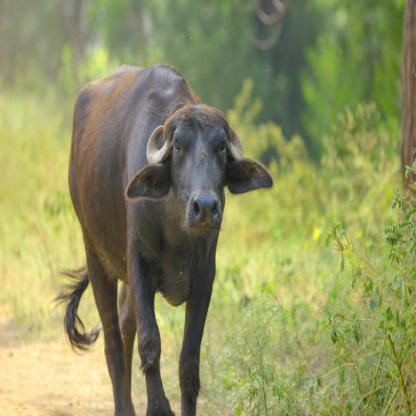buffalo: (53, 77, 249, 416)
